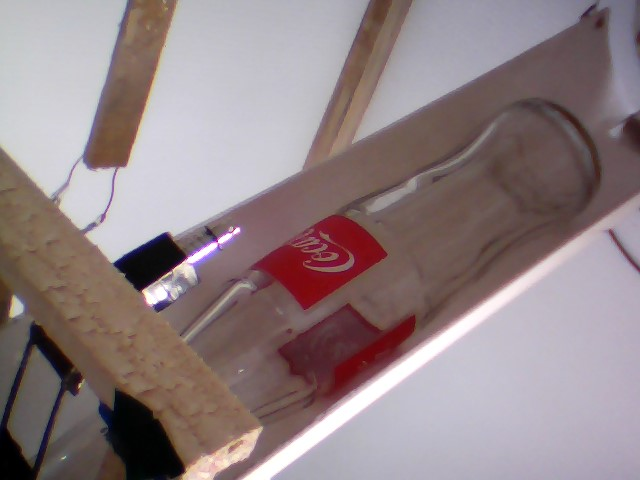vidrio: (177, 94, 609, 433)
